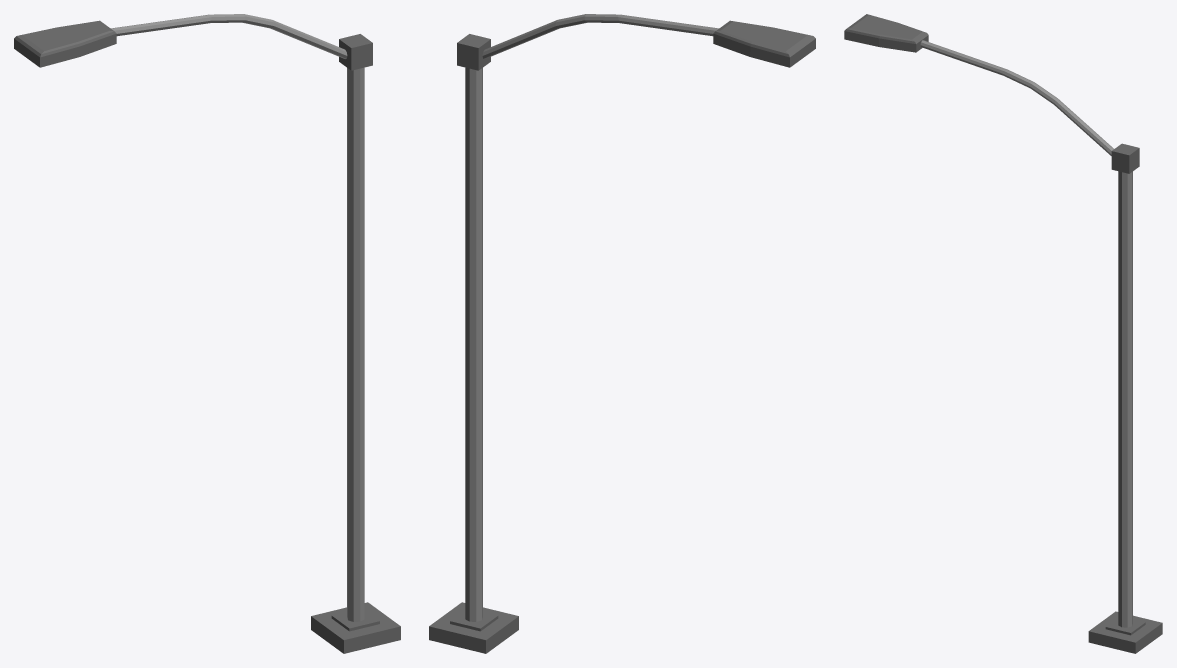
The model's file is Light_01.glb.
The picture shows the model from 3 angles, left to right: view 1: azimuth 30°, elevation 25°; view 2: azimuth 150°, elevation 25°; view 3: azimuth 330°, elevation 25°; orthographic projection. The views are drawn at different scales.
Visible parts, largest first — view 1: Light_01; view 2: Light_01; view 3: Light_01.
Boxes of the visible parts, left/top/right/bottom form: Light_01: left=14, top=14, right=400, bottom=653; Light_01: left=429, top=14, right=815, bottom=653; Light_01: left=844, top=14, right=1162, bottom=653.
Bounding box in the file's own units: 2.6 × 4.67 × 0.4156.
Materials: 1 (1 with a texture image).
